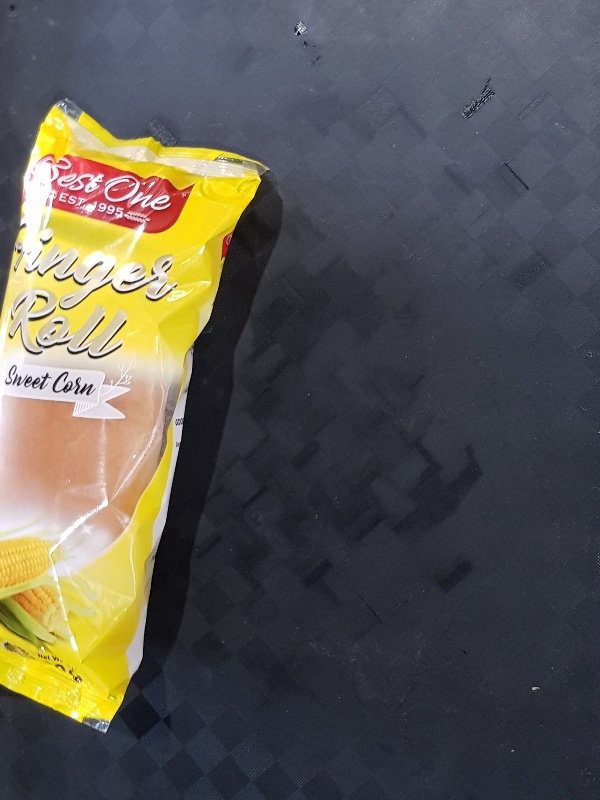Tinges Roll Sweet Corn: (1, 95, 270, 737)
